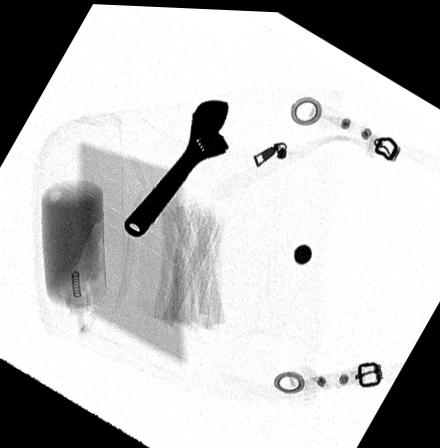Wrench: (122, 94, 230, 240)
